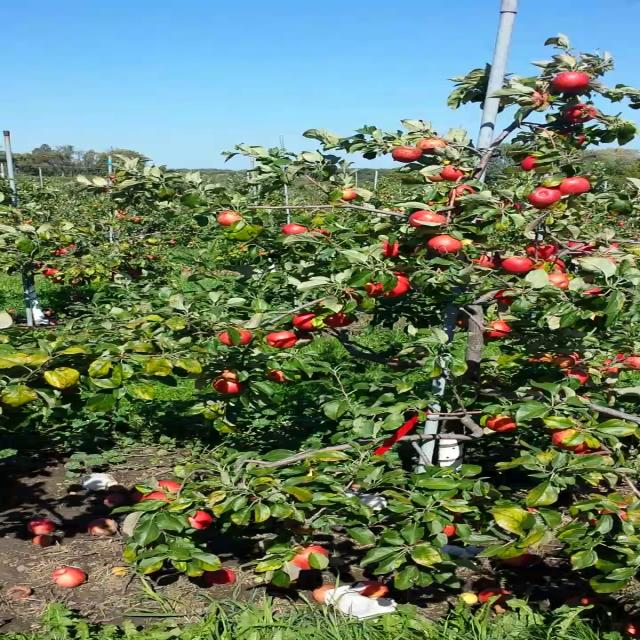apple: (132, 479, 184, 502), (551, 427, 588, 451), (375, 272, 408, 298), (425, 518, 464, 540), (291, 546, 325, 571), (551, 72, 589, 94), (427, 234, 465, 256), (528, 186, 562, 208), (591, 504, 627, 524), (562, 103, 596, 124), (266, 329, 300, 349), (411, 209, 448, 227), (519, 88, 549, 110), (501, 256, 536, 274), (543, 167, 582, 183), (559, 177, 592, 195), (485, 319, 514, 339), (346, 282, 378, 300), (526, 242, 558, 260), (484, 415, 520, 431), (202, 568, 234, 586), (188, 508, 214, 530), (492, 200, 521, 219), (391, 145, 421, 163), (566, 240, 599, 256), (534, 258, 566, 274), (292, 312, 318, 331), (534, 380, 558, 400), (607, 494, 637, 510), (218, 331, 252, 345), (417, 138, 446, 154), (213, 378, 242, 394), (550, 353, 579, 369), (591, 358, 620, 374), (600, 242, 621, 263), (562, 369, 589, 385), (324, 312, 354, 326), (471, 252, 501, 266), (442, 166, 468, 182), (616, 72, 639, 90), (617, 352, 639, 370), (448, 185, 476, 199), (218, 212, 244, 227), (546, 273, 570, 289), (504, 552, 534, 564), (380, 240, 402, 256), (493, 289, 515, 305), (428, 200, 462, 210), (562, 131, 586, 145), (482, 325, 506, 339), (268, 369, 290, 383), (521, 156, 539, 172), (281, 223, 307, 234), (310, 228, 332, 240), (223, 366, 239, 382), (528, 352, 553, 362), (386, 357, 404, 370), (342, 187, 358, 201), (573, 448, 608, 454), (403, 210, 429, 218), (430, 171, 446, 183), (580, 286, 602, 294), (426, 174, 444, 182), (455, 317, 467, 327), (300, 331, 314, 339), (350, 458, 362, 464)
